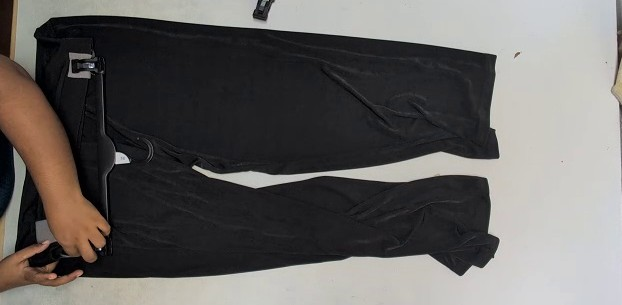TROUSER: (98, 7, 592, 305)
